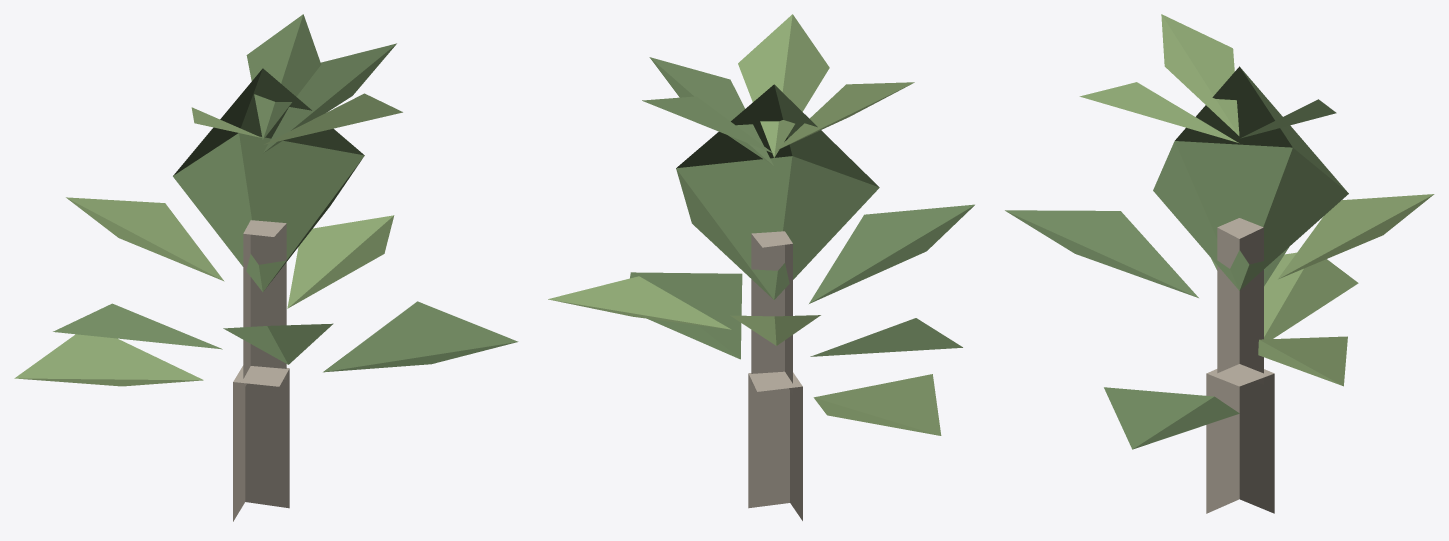
The model's file is shu.chuizhi@seedling__summer.glb.
The picture shows the model from 3 angles, left to right: view 1: azimuth 30°, elevation 25°; view 2: azimuth 150°, elevation 25°; view 3: azimuth 270°, elevation 25°; orthographic projection. The views are drawn at different scales.
Visible parts, largest first — view 1: shu.chuizhi@seedling__summer; view 2: shu.chuizhi@seedling__summer; view 3: shu.chuizhi@seedling__summer.
Part boxes in pixels (x1,y1,x2,y2): shu.chuizhi@seedling__summer: (14, 14, 518, 521); shu.chuizhi@seedling__summer: (548, 14, 974, 520); shu.chuizhi@seedling__summer: (1005, 14, 1434, 513).
Size of the model in its own units: 0.9164 by 0.9461 by 0.8249.
